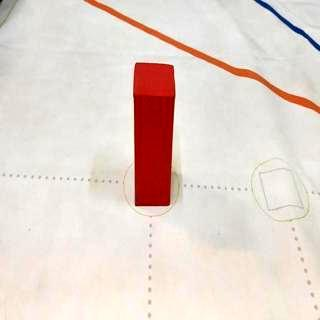redbox: (132, 62, 176, 206)
